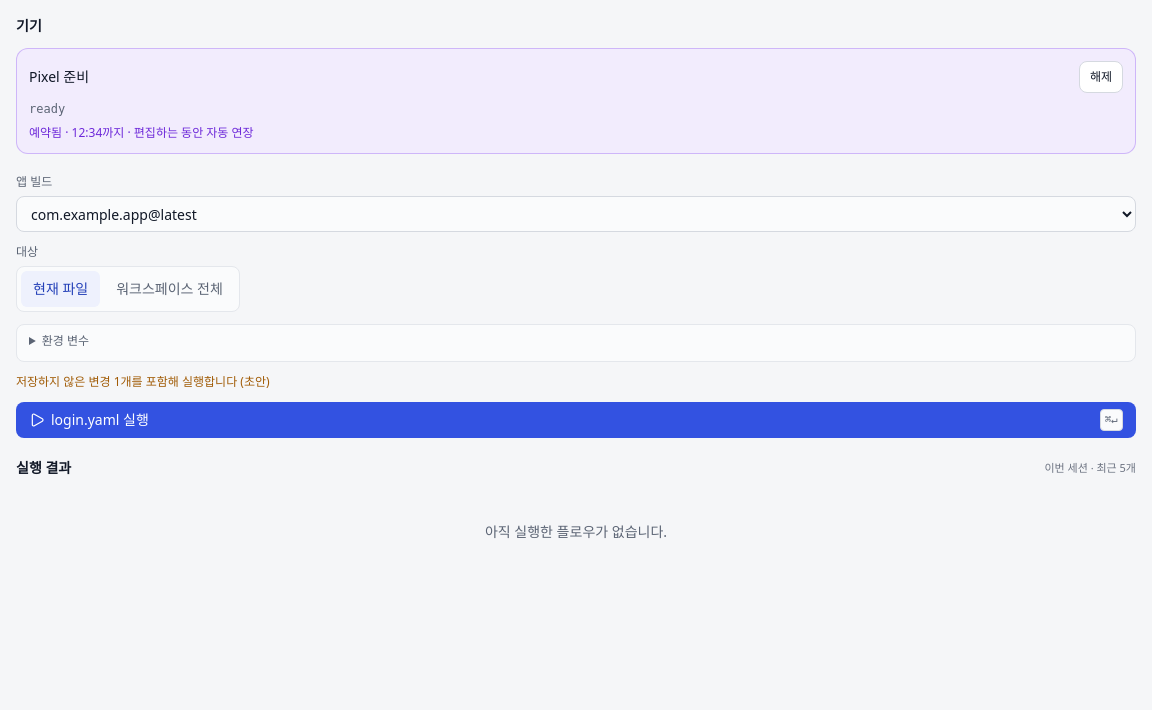
Test: shows reservation_not_active inline without losing the draft or environment
This screenshot has width=1152, height=710.
Click the heading "환경 변수" at (65, 340), box [42,332,89,349]
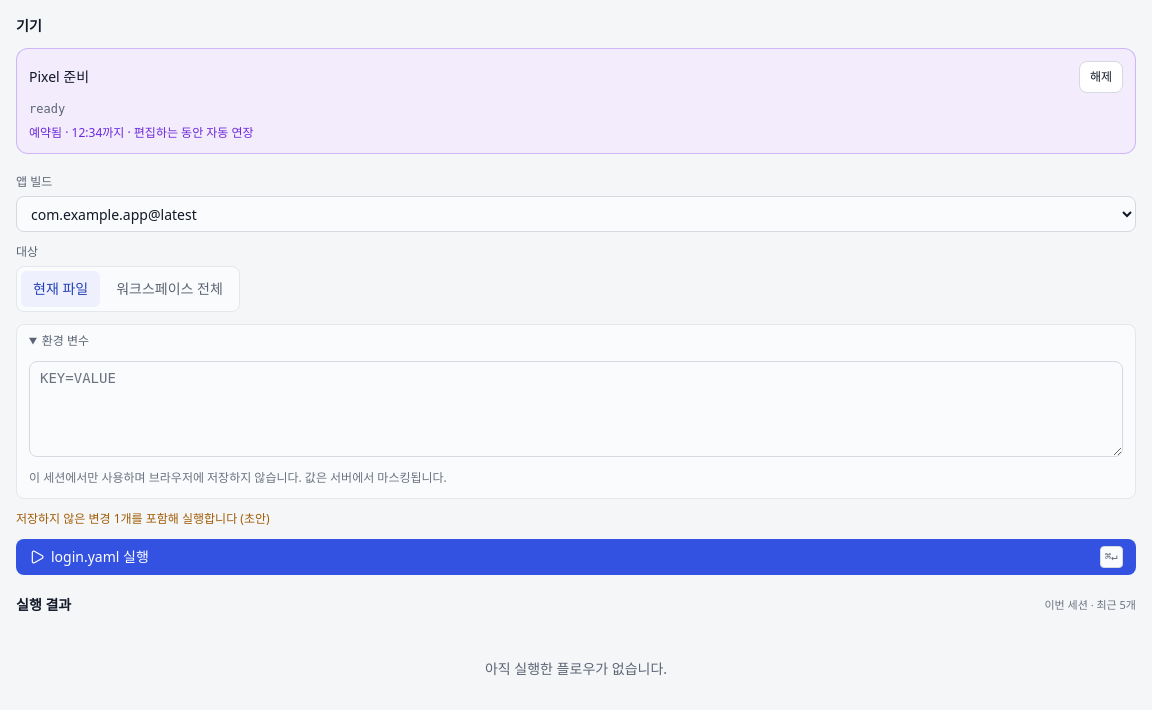
Type "TOKEN=private" into the text box named "환경 변수" at (576, 409), box [29,361,1123,457]
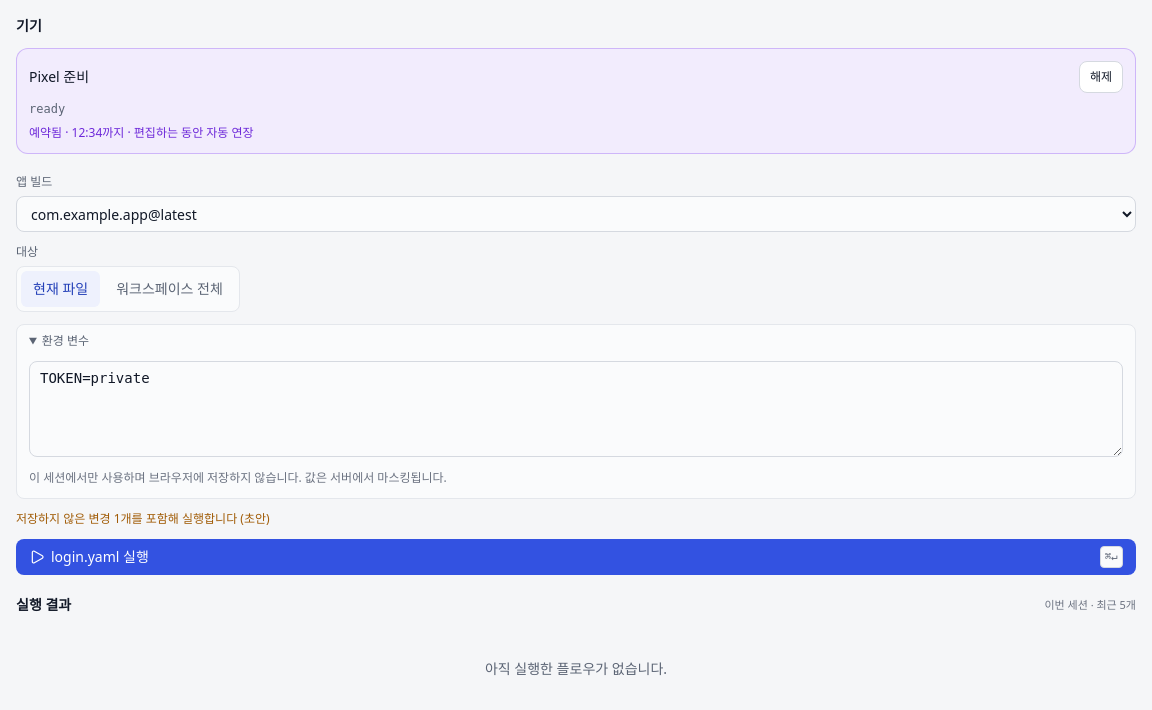
Click the button "login.yaml 실행 ⌘↵" at (100, 556), box [16,539,1136,575]
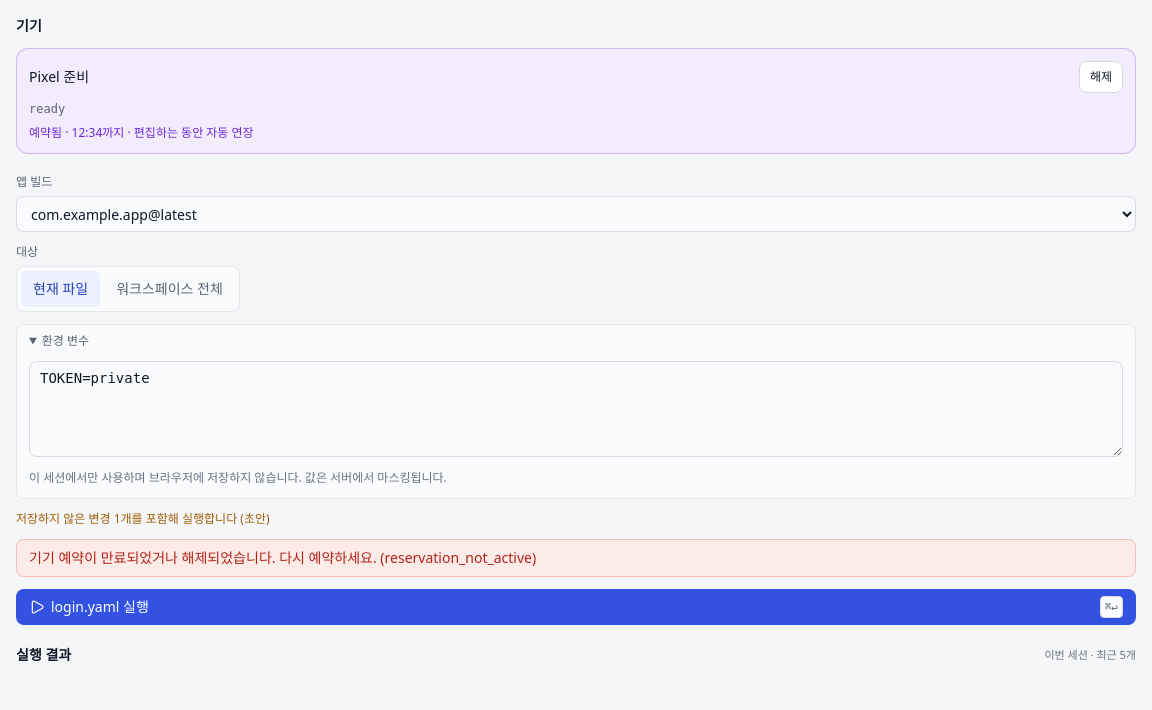
Expected: the message shows "reservation_not_active", [29,548,536,567]
